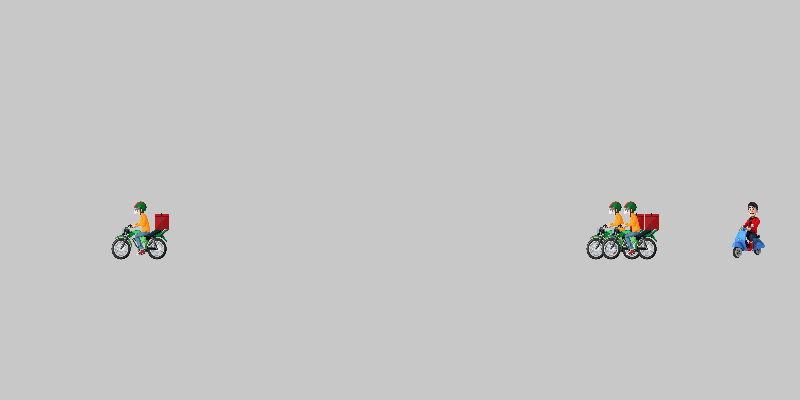helmet: (110, 200, 170, 260), (585, 200, 645, 260), (600, 200, 660, 260)
no_helmet: (720, 200, 780, 260)
